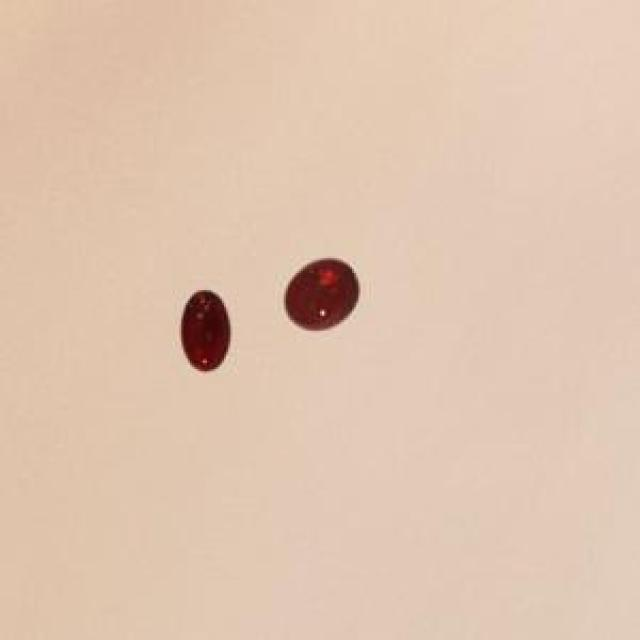Medicol: (279, 251, 364, 344), (168, 279, 244, 381)
